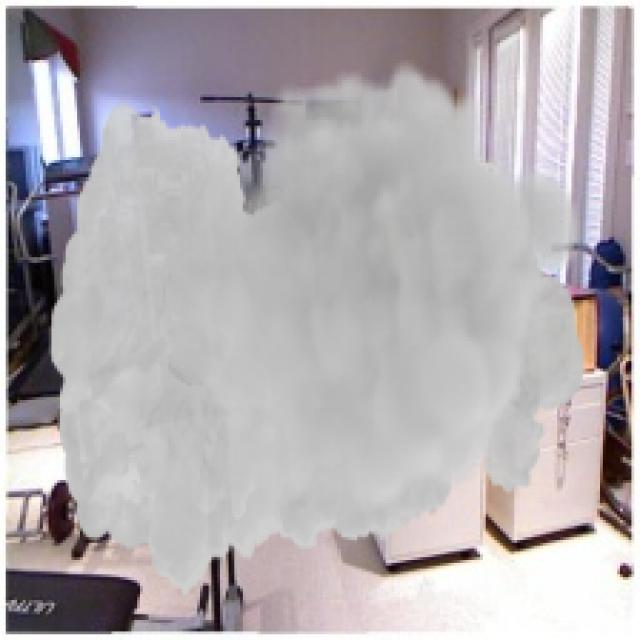smoke: (48, 60, 586, 600)
